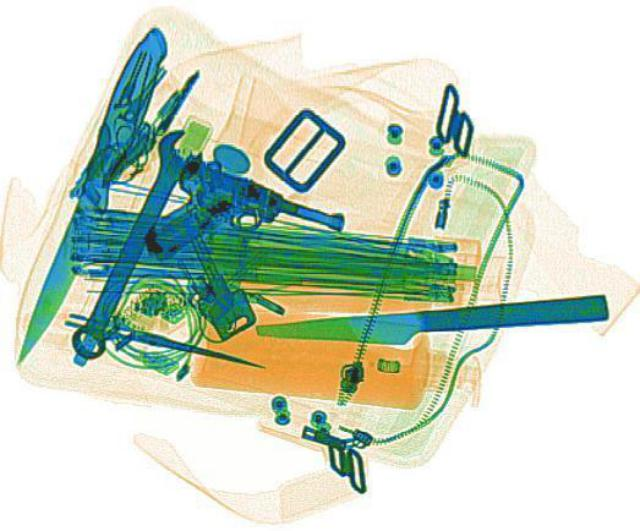Gun: (130, 156, 352, 303)
Knife: (9, 22, 172, 363), (252, 291, 608, 350), (63, 306, 267, 376)
Wrench: (58, 122, 210, 361)
